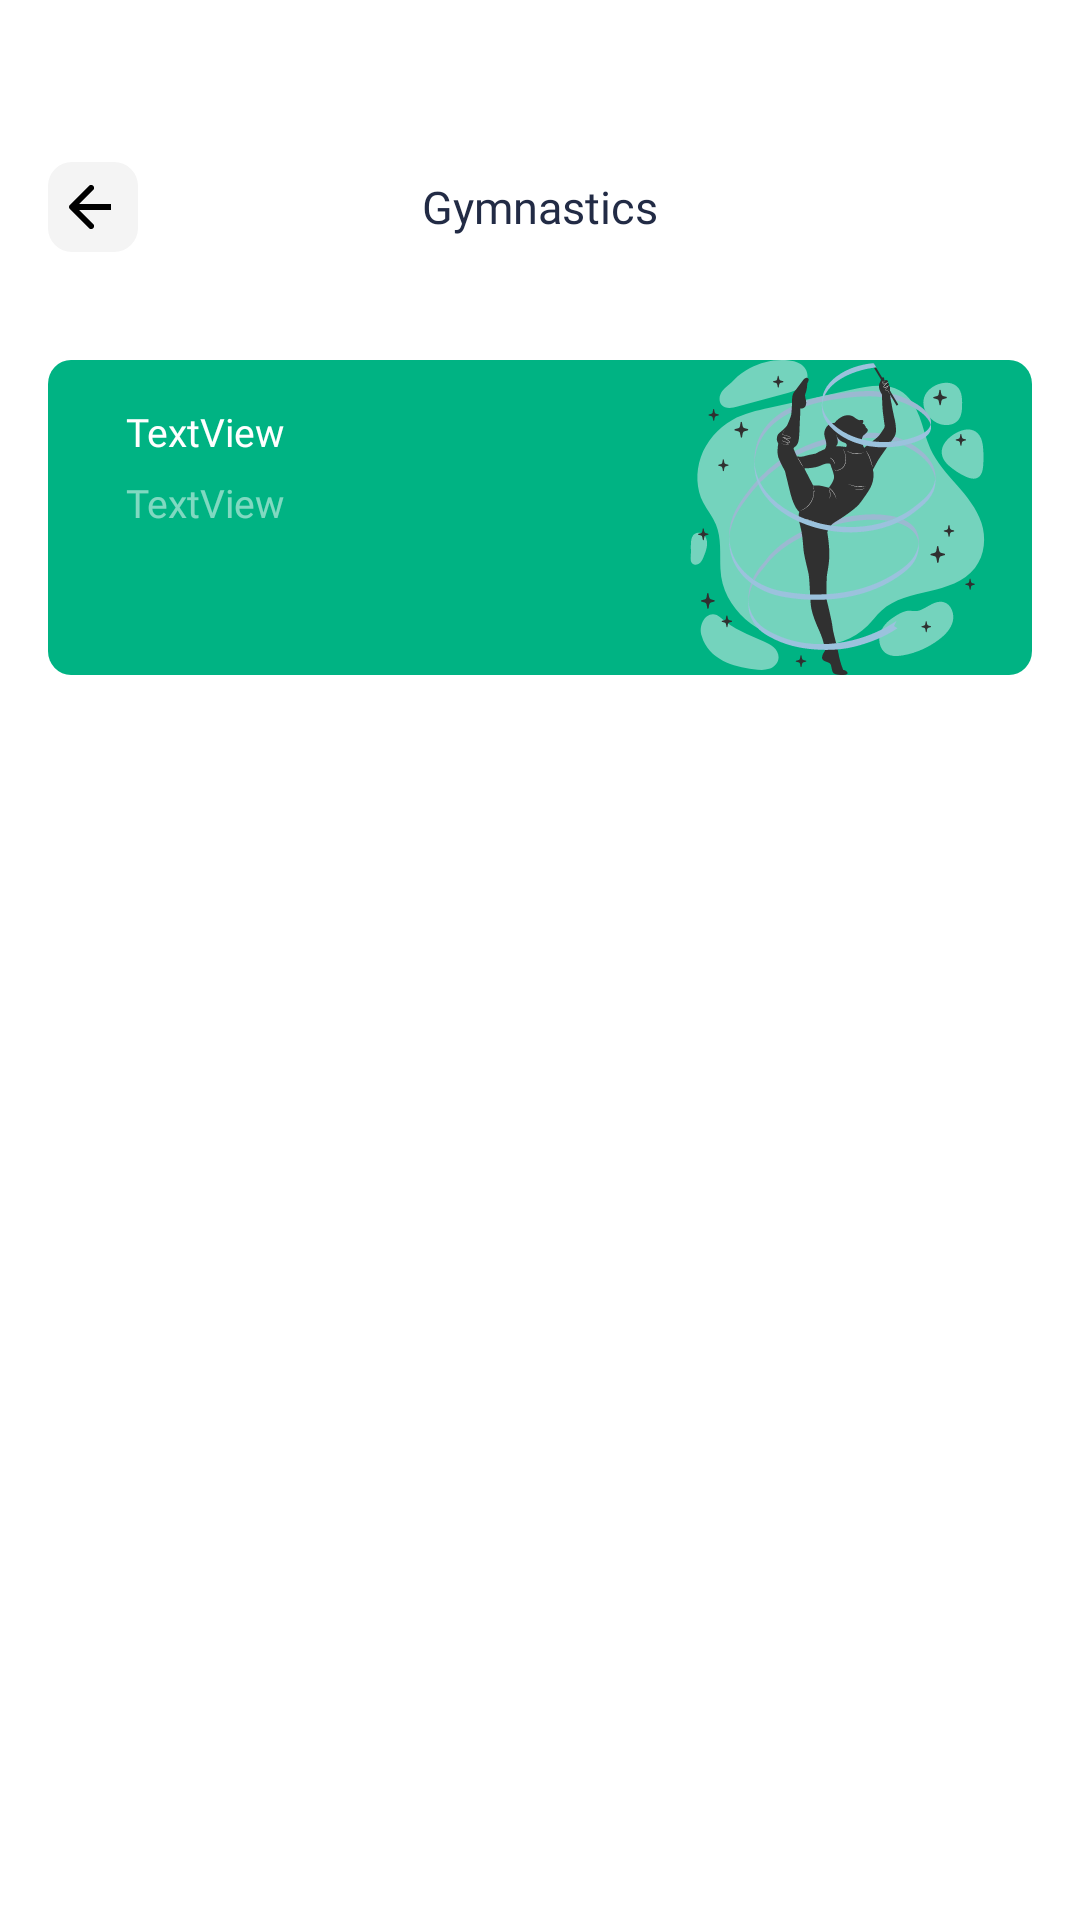

Screen size 1080*1920. Icon name, then its box in pixels as (x1, y1, x2, y2):
back: (48, 162, 138, 252)
